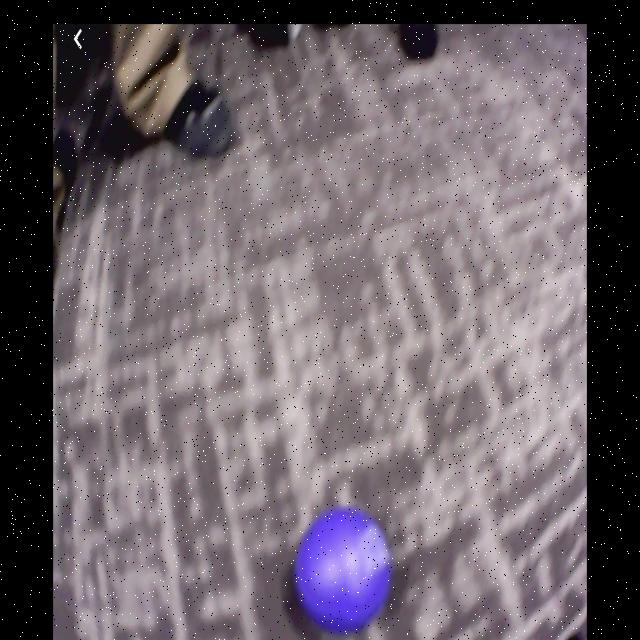ball: (296, 508, 389, 629)
